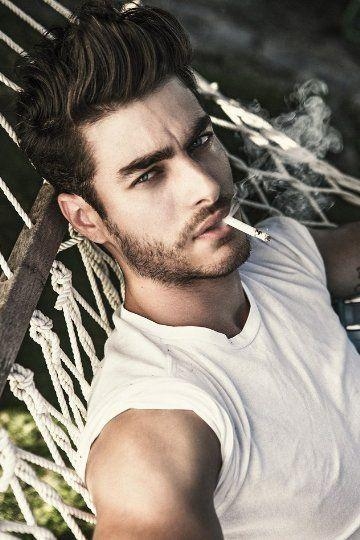cigarette: (221, 215, 271, 243)
